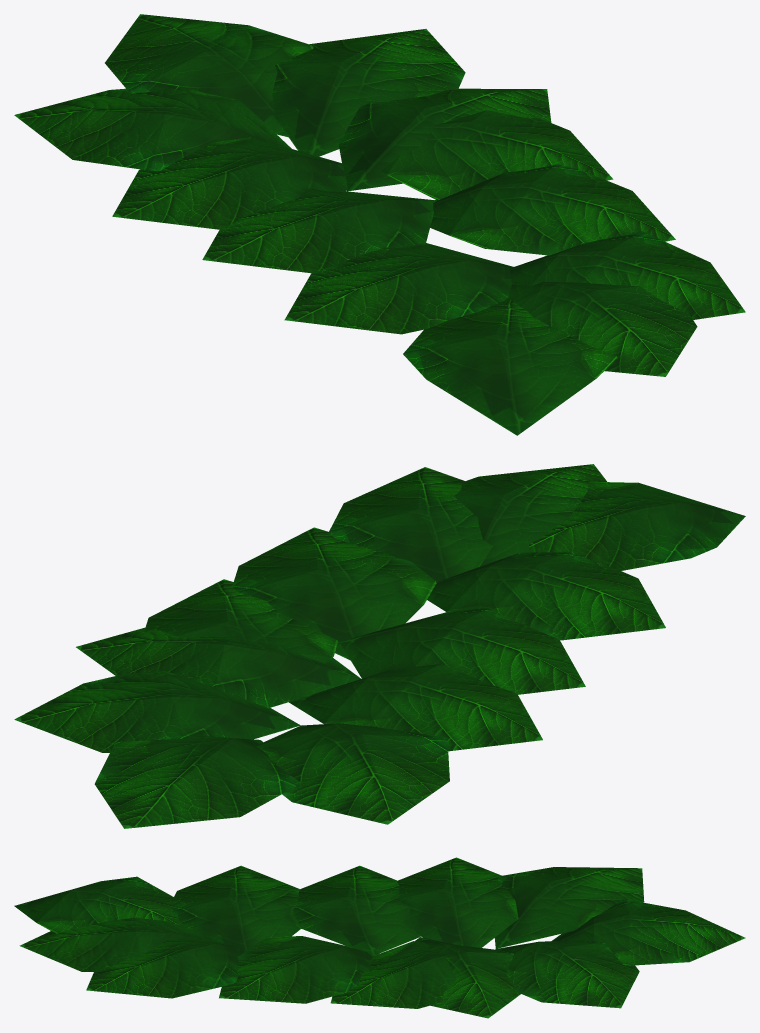
Rendered from bedleave.glb.
3 views of the same model, one above another, from view 1: azimuth 30°, elevation 25°; view 2: azimuth 150°, elevation 25°; view 3: azimuth 270°, elevation 25° (orthographic). The views are drawn at different scales.
Visible parts, largest first — view 1: bedleaf; view 2: bedleaf; view 3: bedleaf.
Boxes of the visible parts, box(x1,y1,x2,y2) form: bedleaf: box(14, 14, 745, 435); bedleaf: box(14, 464, 745, 828); bedleaf: box(14, 857, 745, 1018).
Size of the model in its own units: 1.09 by 0.1005 by 2.1.
1 material, 1 textured.
